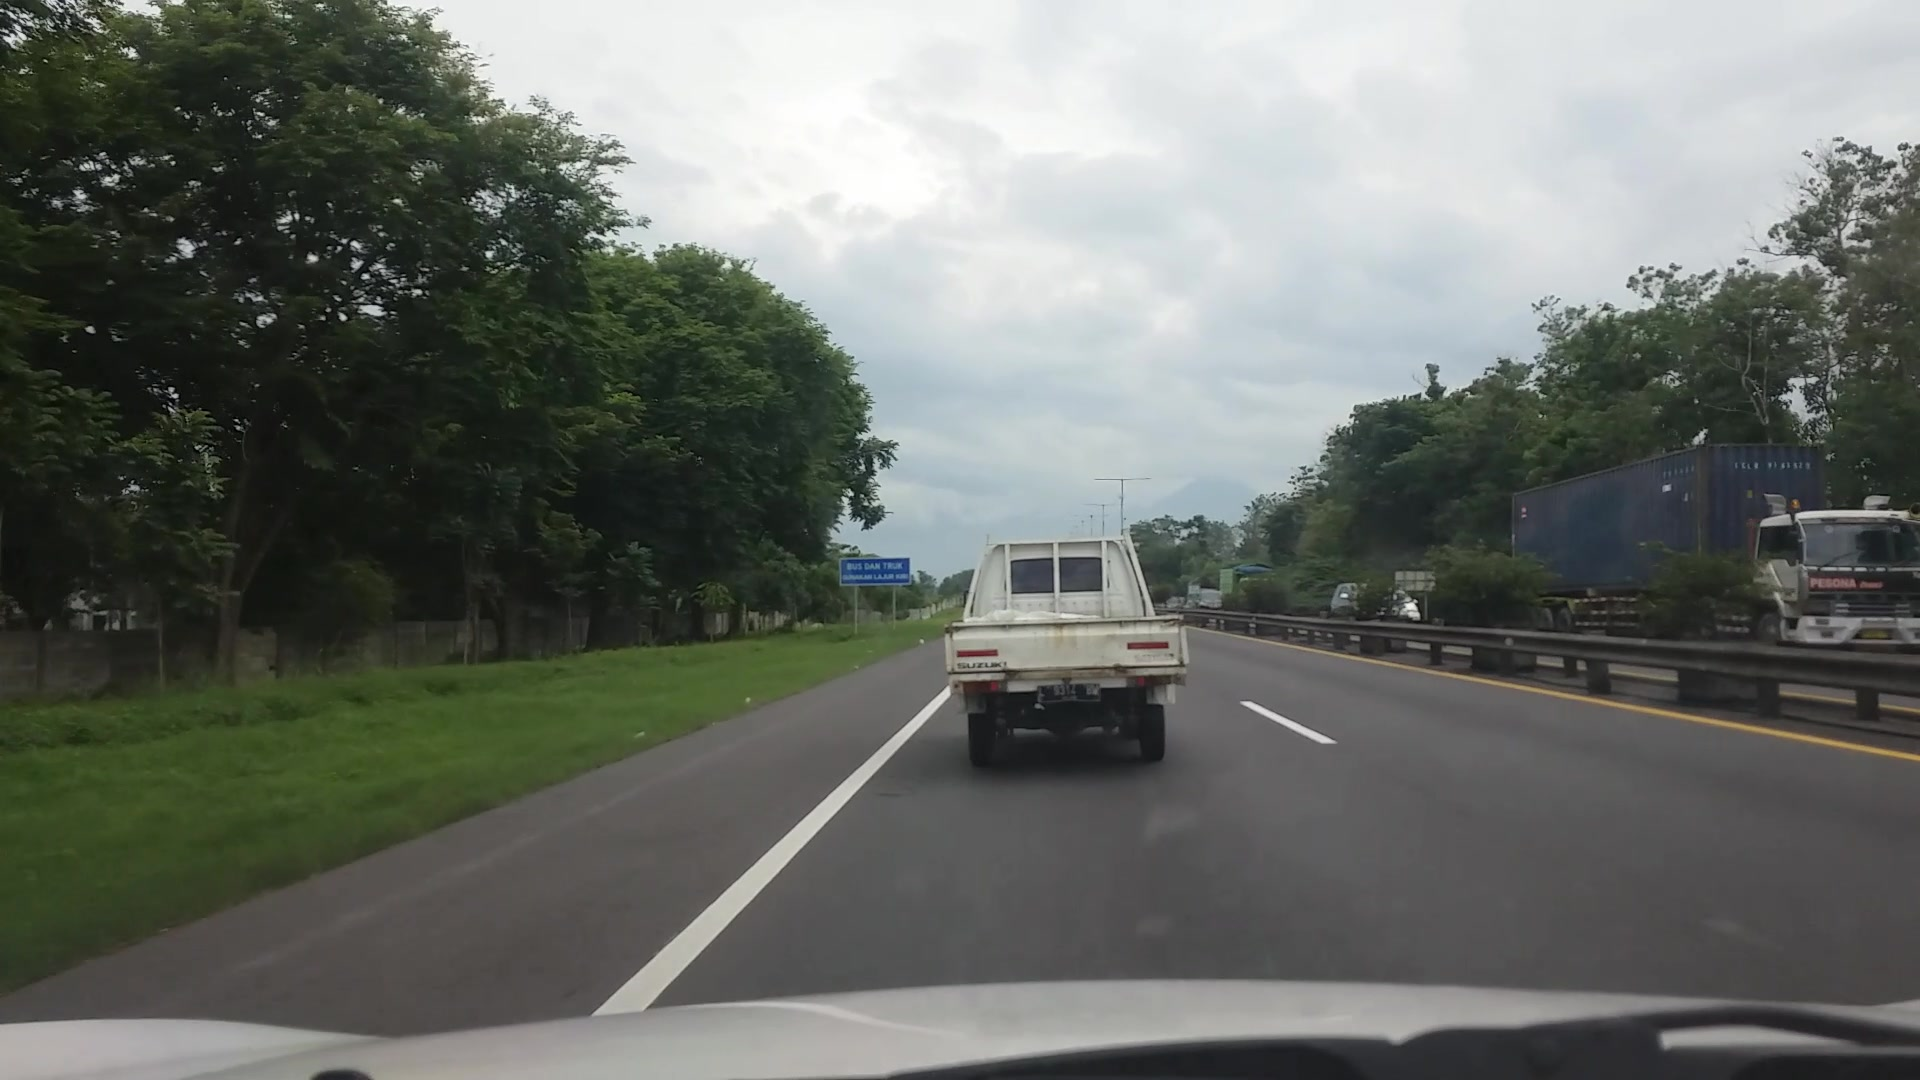plate_positive: (1036, 683, 1100, 703)
